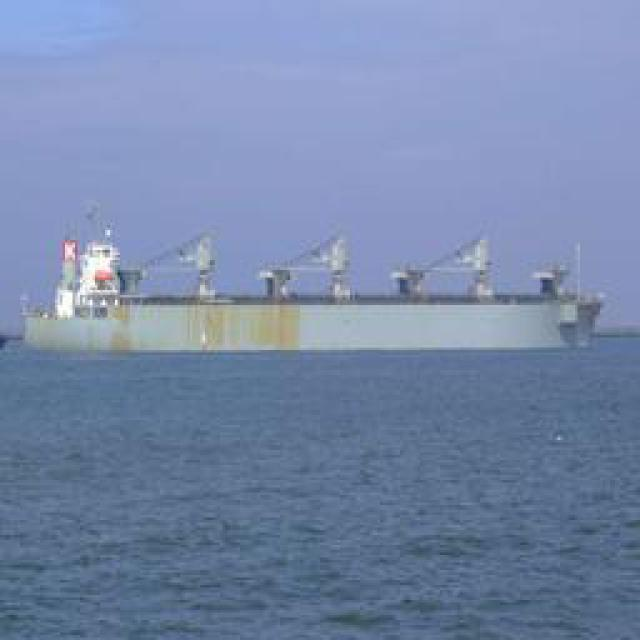Ship: (12, 236, 602, 359)
